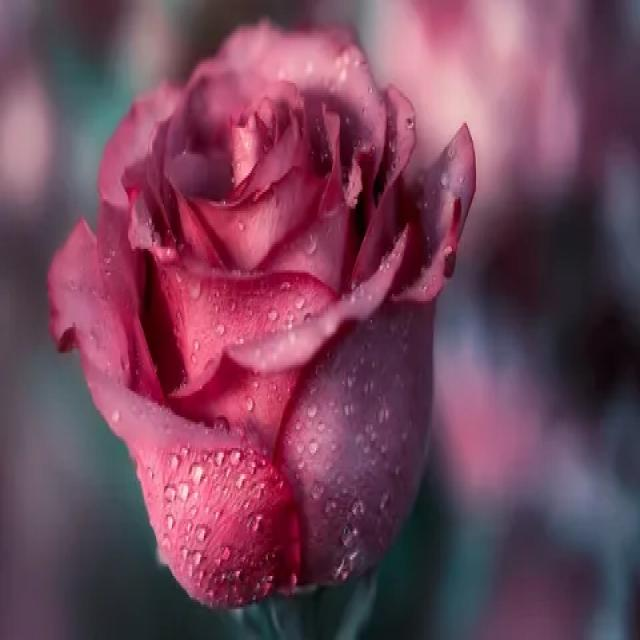rose: (42, 18, 483, 610)
